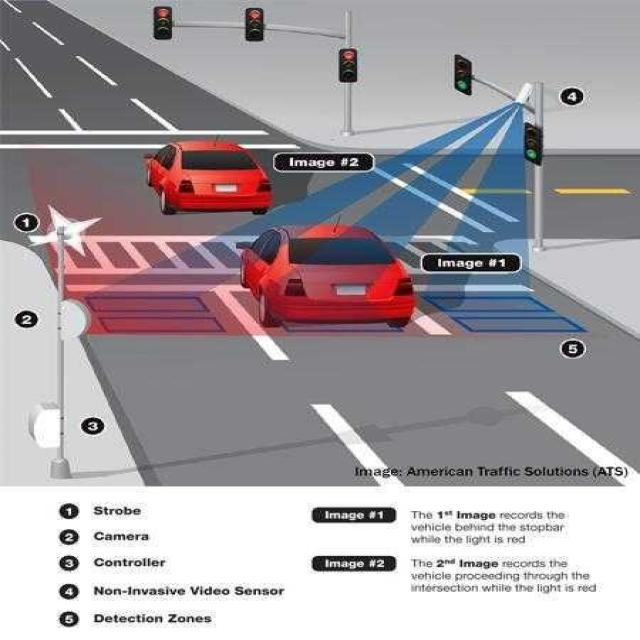Traffic Light -Green-: (523, 123, 542, 165), (454, 55, 472, 96)
Traffic Light -Red-: (152, 6, 172, 42), (338, 48, 357, 84), (245, 7, 263, 42)
